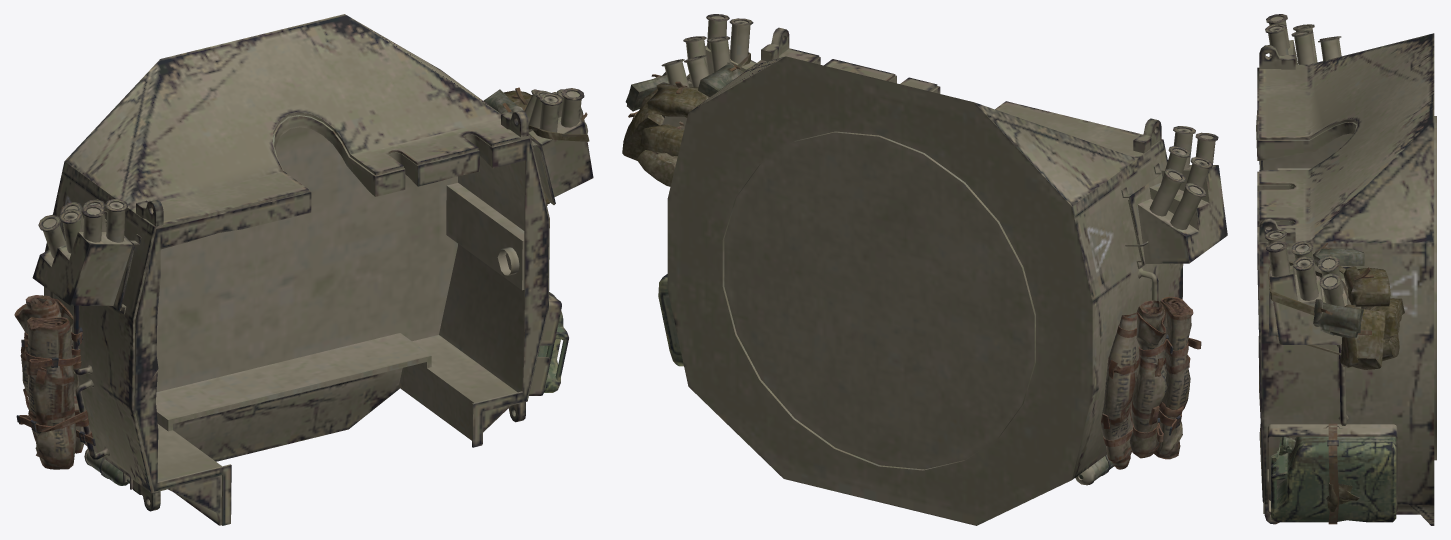
File: Turret_01.glb
3 renders of one model, left to right at view 1: azimuth 30°, elevation 25°; view 2: azimuth 150°, elevation 25°; view 3: azimuth 270°, elevation 25°, orthographic. The views are drawn at different scales.
Parts seen in each view (by area): view 1: set_0_group_0; view 2: set_0_group_0; view 3: set_0_group_0.
Part boxes in pixels (x1,y1,x2,y2): set_0_group_0: [14, 14, 593, 525]; set_0_group_0: [622, 14, 1227, 525]; set_0_group_0: [1256, 14, 1436, 525].
Size of the model in its own units: 2.33 by 1.66 by 0.672.
Materials: 1 (1 with a texture image).
